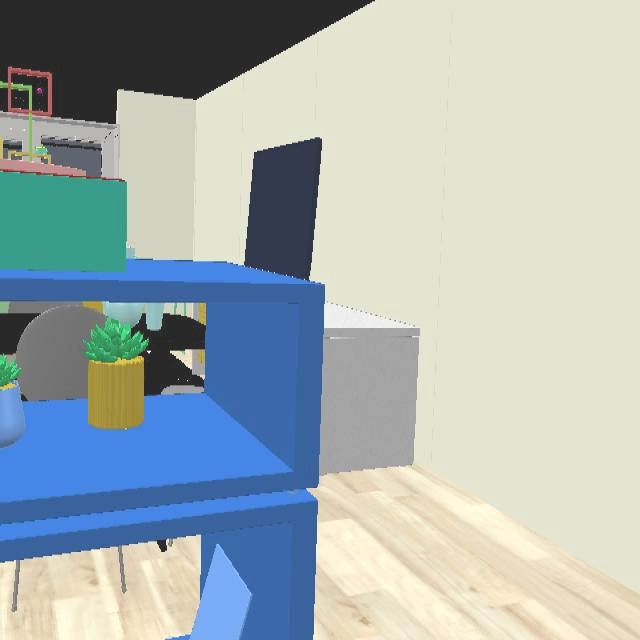chair: (15, 304, 104, 403)
table: (320, 304, 422, 477)
